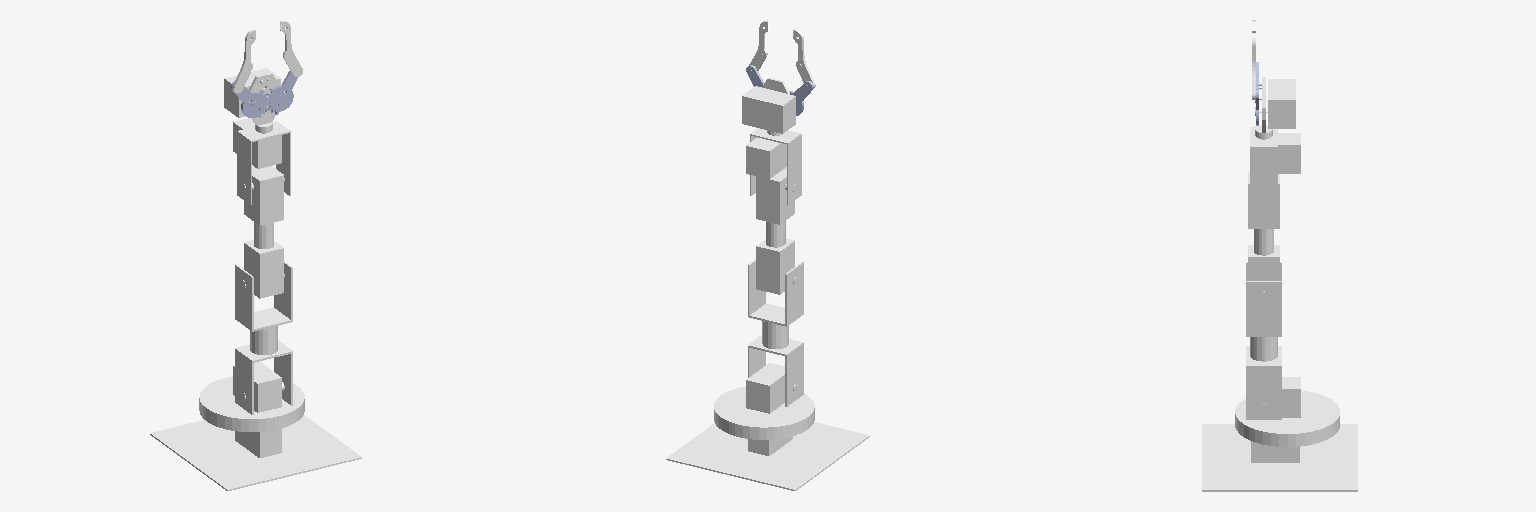
URDF robot description (xarm_new):
<?xml version="1.0" encoding="utf-8"?>
<!-- This URDF was automatically created by SolidWorks to URDF Exporter! Originally created by [author] ([email redacted]) 
     Commit Version: 1.5.1-0-g916b5db  Build Version: 1.5.7152.31018
     For more information, please see http://wiki.ros.org/sw_urdf_exporter -->
<robot
  name="xarm_new">
  <link
    name="base_link">
    <inertial>
      <origin
        xyz="2.56571213682472E-06 -0.00898617590437677 0.00787331270823633"
        rpy="0 0 0" />
      <mass
        value="0.0572940346225848" />
      <inertia
        ixx="5.76371488808841E-05"
        ixy="-2.91967857828589E-10"
        ixz="1.04712696810588E-09"
        iyy="5.41093307835269E-05"
        iyz="7.36555407278734E-07"
        izz="0.000101963856036541" />
    </inertial>
    <visual>
      <origin
        xyz="0 0 0"
        rpy="0 0 0" />
      <geometry>
        <mesh
          filename="package://xarm_new/meshes/base_link.STL" />
      </geometry>
      <material
        name="">
        <color
          rgba="1 1 1 1" />
      </material>
    </visual>
    <collision>
      <origin
        xyz="0 0 0"
        rpy="0 0 0" />
      <geometry>
        <mesh
          filename="package://xarm_new/meshes/base_link.STL" />
      </geometry>
    </collision>
  </link>
  <link
    name="link_1">
    <inertial>
      <origin
        xyz="6.24500451351651E-17 -0.00271395581985957 0.0121376391185315"
        rpy="0 0 0" />
      <mass
        value="0.125894050792552" />
      <inertia
        ixx="7.4611632006739E-05"
        ixy="3.43289062159279E-23"
        ixz="-6.64269776011072E-21"
        iyy="6.85078336247671E-05"
        iyz="5.26192854799441E-06"
        izz="0.000114012935557025" />
    </inertial>
    <visual>
      <origin
        xyz="0 0 0"
        rpy="0 0 0" />
      <geometry>
        <mesh
          filename="package://xarm_new/meshes/link_1.STL" />
      </geometry>
      <material
        name="">
        <color
          rgba="1 1 1 1" />
      </material>
    </visual>
    <collision>
      <origin
        xyz="0 0 0"
        rpy="0 0 0" />
      <geometry>
        <mesh
          filename="package://xarm_new/meshes/link_1.STL" />
      </geometry>
    </collision>
  </link>
  <joint
    name="joint_1"
    type="continuous">
    <origin
      xyz="0 0 0.0335"
      rpy="0 0 0" />
    <parent
      link="base_link" />
    <child
      link="link_1" />
    <axis
      xyz="0 0 1" />
  </joint>
  <link
    name="link_2">
    <inertial>
      <origin
        xyz="-0.0554999999999998 1.94289029309402E-16 -0.0218000000000002"
        rpy="0 0 0" />
      <mass
        value="0.0331006726764936" />
      <inertia
        ixx="9.07529641157238E-06"
        ixy="5.1332252732847E-21"
        ixz="-6.9450335888762E-21"
        iyy="3.65815762789294E-05"
        iyz="-2.32242941688522E-21"
        izz="3.18217460529601E-05" />
    </inertial>
    <visual>
      <origin
        xyz="0 0 0"
        rpy="0 0 0" />
      <geometry>
        <mesh
          filename="package://xarm_new/meshes/link_2.STL" />
      </geometry>
      <material
        name="">
        <color
          rgba="1 1 1 1" />
      </material>
    </visual>
    <collision>
      <origin
        xyz="0 0 0"
        rpy="0 0 0" />
      <geometry>
        <mesh
          filename="package://xarm_new/meshes/link_2.STL" />
      </geometry>
    </collision>
  </link>
  <joint
    name="joint_2"
    type="continuous">
    <origin
      xyz="-0.0218000000000002 -0.0214899999999999 0.0278465366697234"
      rpy="3.14159265358979 1.5707963267949 0" />
    <parent
      link="link_1" />
    <child
      link="link_2" />
    <axis
      xyz="0 0 1" />
  </joint>
  <link
    name="link_3">
    <inertial>
      <origin
        xyz="-0.04783 -2.08166817117217E-16 -0.0127999999999998"
        rpy="0 0 0" />
      <mass
        value="0.0750155170933026" />
      <inertia
        ixx="8.93762441030407E-06"
        ixy="6.20385459414768E-22"
        ixz="1.6411269460701E-21"
        iyy="0.000105451459777764"
        iyz="4.39000387485689E-22"
        izz="0.000106155354680136" />
    </inertial>
    <visual>
      <origin
        xyz="0 0 0"
        rpy="0 0 0" />
      <geometry>
        <mesh
          filename="package://xarm_new/meshes/link_3.STL" />
      </geometry>
      <material
        name="">
        <color
          rgba="1 1 1 1" />
      </material>
    </visual>
    <collision>
      <origin
        xyz="0 0 0"
        rpy="0 0 0" />
      <geometry>
        <mesh
          filename="package://xarm_new/meshes/link_3.STL" />
      </geometry>
    </collision>
  </link>
  <joint
    name="joint_3"
    type="continuous">
    <origin
      xyz="-0.111 0 -0.0346000000000001"
      rpy="-3.14159265358979 0 0" />
    <parent
      link="link_2" />
    <child
      link="link_3" />
    <axis
      xyz="0 0 1" />
  </joint>
  <link
    name="link_4">
    <inertial>
      <origin
        xyz="-0.034118144187716 -0.00969792878565746 -0.0213000000000001"
        rpy="0 0 0" />
      <mass
        value="0.0395503706902083" />
      <inertia
        ixx="1.04545718507469E-05"
        ixy="-5.20431108427383E-07"
        ixz="-1.51809025256161E-22"
        iyy="9.50587650825342E-06"
        iyz="5.3337702474887E-22"
        izz="1.20784718195145E-05" />
    </inertial>
    <visual>
      <origin
        xyz="0 0 0"
        rpy="0 0 0" />
      <geometry>
        <mesh
          filename="package://xarm_new/meshes/link_4.STL" />
      </geometry>
      <material
        name="">
        <color
          rgba="1 1 1 1" />
      </material>
    </visual>
    <collision>
      <origin
        xyz="0 0 0"
        rpy="0 0 0" />
      <geometry>
        <mesh
          filename="package://xarm_new/meshes/link_4.STL" />
      </geometry>
    </collision>
  </link>
  <joint
    name="joint_4"
    type="continuous">
    <origin
      xyz="-0.09566 0 -0.0341"
      rpy="3.14159265358979 0 0" />
    <parent
      link="link_3" />
    <child
      link="link_4" />
    <axis
      xyz="0 0 1" />
  </joint>
  <link
    name="gripper">
    <inertial>
      <origin
        xyz="0.0139946828525941 0.00192742957865329 0.02917550381288"
        rpy="0 0 0" />
      <mass
        value="0.0385295735238804" />
      <inertia
        ixx="9.69163246584673E-06"
        ixy="-1.73931159406224E-07"
        ixz="-4.42162259545074E-07"
        iyy="6.90509384330086E-06"
        iyz="-6.12295930459394E-08"
        izz="8.94113928034664E-06" />
    </inertial>
    <visual>
      <origin
        xyz="0 0 0"
        rpy="0 0 0" />
      <geometry>
        <mesh
          filename="package://xarm_new/meshes/gripper.STL" />
      </geometry>
      <material
        name="">
        <color
          rgba="1 1 1 1" />
      </material>
    </visual>
    <collision>
      <origin
        xyz="0 0 0"
        rpy="0 0 0" />
      <geometry>
        <mesh
          filename="package://xarm_new/meshes/gripper.STL" />
      </geometry>
    </collision>
  </link>
  <joint
    name="gripper"
    type="continuous">
    <origin
      xyz="-0.0533 0 -0.0213"
      rpy="1.5707963267949 0 -1.5707963267949" />
    <parent
      link="link_4" />
    <child
      link="gripper" />
    <axis
      xyz="0 0 -1" />
  </joint>
  <link
    name="gripper_r1">
    <inertial>
      <origin
        xyz="0.00599709527117787 0.000277976211210507 -0.00200000000000016"
        rpy="0 0 0" />
      <mass
        value="0.00229207293973417" />
      <inertia
        ixx="8.00953403183806E-08"
        ixy="1.97324227951185E-08"
        ixz="-5.97054675517946E-24"
        iyy="3.44895629651293E-07"
        iyz="-2.07940111506613E-24"
        izz="4.21285301585741E-07" />
    </inertial>
    <visual>
      <origin
        xyz="0 0 0"
        rpy="0 0 0" />
      <geometry>
        <mesh
          filename="package://xarm_new/meshes/gripper_r1.STL" />
      </geometry>
      <material
        name="">
        <color
          rgba="0.792156862745098 0.819607843137255 0.933333333333333 1" />
      </material>
    </visual>
    <collision>
      <origin
        xyz="0 0 0"
        rpy="0 0 0" />
      <geometry>
        <mesh
          filename="package://xarm_new/meshes/gripper_r1.STL" />
      </geometry>
    </collision>
  </link>
  <joint
    name="gripper_r1"
    type="continuous">
    <origin
      xyz="-0.00800000000000001 -0.0140000000000066 0.0300000000000017"
      rpy="1.5707963267949 -1.03225494696145 -1.5707963267949" />
    <parent
      link="gripper" />
    <child
      link="gripper_r1" />
    <axis
      xyz="0 0 -1" />
  </joint>
  <link
    name="end_r">
    <inertial>
      <origin
        xyz="0.0219290452927009 -0.00330817011818113 -0.00200000000000016"
        rpy="0 0 0" />
      <mass
        value="0.00143932679187371" />
      <inertia
        ixx="3.88004981918465E-08"
        ixy="9.74509543100112E-08"
        ixz="-1.06474581777031E-23"
        iyy="4.00376051789654E-07"
        iyz="3.39920438673816E-24"
        izz="4.36951586347965E-07" />
    </inertial>
    <visual>
      <origin
        xyz="0 0 0"
        rpy="0 0 0" />
      <geometry>
        <mesh
          filename="package://xarm_new/meshes/end_r.STL" />
      </geometry>
      <material
        name="">
        <color
          rgba="1 1 1 1" />
      </material>
    </visual>
    <collision>
      <origin
        xyz="0 0 0"
        rpy="0 0 0" />
      <geometry>
        <mesh
          filename="package://xarm_new/meshes/end_r.STL" />
      </geometry>
    </collision>
  </link>
  <joint
    name="end_r"
    type="continuous">
    <origin
      xyz="0.0289823339835635 -0.00101208540439066 0.00300000000000004"
      rpy="0 0 1.02714983775265" />
    <parent
      link="gripper_r1" />
    <child
      link="end_r" />
    <axis
      xyz="0 0 1" />
    <mimic joint="gripper_r1" multiplier="1" offset="0" />
  </joint>
  <link
    name="gripper_l1">
    <inertial>
      <origin
        xyz="0.00596309600823319 -0.000695635293955915 -0.00200000000000098"
        rpy="0 0 0" />
      <mass
        value="0.00229207293973417" />
      <inertia
        ixx="7.8637626955029E-08"
        ixy="-1.11384951212612E-09"
        ixz="1.66029242583682E-23"
        iyy="3.46353343014644E-07"
        iyz="-1.73193767662909E-23"
        izz="4.21285301585741E-07" />
    </inertial>
    <visual>
      <origin
        xyz="0 0 0"
        rpy="0 0 0" />
      <geometry>
        <mesh
          filename="package://xarm_new/meshes/gripper_l1.STL" />
      </geometry>
      <material
        name="">
        <color
          rgba="0.792156862745098 0.819607843137255 0.933333333333333 1" />
      </material>
    </visual>
    <collision>
      <origin
        xyz="0 0 0"
        rpy="0 0 0" />
      <geometry>
        <mesh
          filename="package://xarm_new/meshes/gripper_l1.STL" />
      </geometry>
    </collision>
  </link>
  <joint
    name="gripper_l1"
    type="continuous">
    <origin
      xyz="-0.00799999999999931 0.0140000000000048 0.0299999999999994"
      rpy="-1.57079632679489 -0.857447110105399 1.57079632679489" />
    <parent
      link="gripper" />
    <child
      link="gripper_l1" />
    <axis
      xyz="0 0 1" />
    <mimic joint="gripper_r1" multiplier="1" offset="0" />
  </joint>
  <link
    name="end_l">
    <inertial>
      <origin
        xyz="0.0219290452927007 0.00330817011818071 -0.00200000000000097"
        rpy="0 0 0" />
      <mass
        value="0.00143932679187371" />
      <inertia
        ixx="3.88004981918466E-08"
        ixy="-9.74509543100107E-08"
        ixz="-1.70140069102779E-24"
        iyy="4.00376051789654E-07"
        iyz="-5.76581737907008E-24"
        izz="4.36951586347964E-07" />
    </inertial>
    <visual>
      <origin
        xyz="0 0 0"
        rpy="0 0 0" />
      <geometry>
        <mesh
          filename="package://xarm_new/meshes/end_l.STL" />
      </geometry>
      <material
        name="">
        <color
          rgba="1 1 1 1" />
      </material>
    </visual>
    <collision>
      <origin
        xyz="0 0 0"
        rpy="0 0 0" />
      <geometry>
        <mesh
          filename="package://xarm_new/meshes/end_l.STL" />
      </geometry>
    </collision>
  </link>
  <joint
    name="end_l"
    type="continuous">
    <origin
      xyz="0.0289823339835491 -0.00101208540438016 0.0030000000000008"
      rpy="0 0 -1.20609472258137" />
    <parent
      link="gripper_l1" />
    <child
      link="end_l" />
    <axis
      xyz="0 0 1" />
    <mimic joint="end_r" multiplier="-1" offset="0" />
  </joint>
</robot>

--- Render facts (derived) ---
3 views of the same robot in one strip: view 1: azimuth 30°, elevation 25°; view 2: azimuth 150°, elevation 25°; view 3: azimuth 270°, elevation 25° (orthographic).
Robot: xarm_new — 10 links, 9 joints (9 continuous); root link base_link; default pose: every joint at zero.
Links seen in each view (by area): view 1: base_link, link_2, link_1, link_3, link_4, gripper, gripper_r1, gripper_l1, end_l, end_r; view 2: base_link, link_1, link_2, link_3, link_4, gripper; view 3: base_link, link_2, link_1, link_4, link_3, gripper.
Boxes of the visible links, left/top/right/bottom form: base_link: left=150, top=415, right=361, bottom=490; link_2: left=235, top=261, right=292, bottom=414; link_1: left=199, top=361, right=304, bottom=431; link_3: left=244, top=166, right=284, bottom=298; link_4: left=233, top=118, right=290, bottom=204; gripper: left=224, top=68, right=280, bottom=132; gripper_r1: left=267, top=71, right=297, bottom=114; gripper_l1: left=231, top=81, right=268, bottom=117; end_l: left=232, top=29, right=255, bottom=92; end_r: left=280, top=20, right=302, bottom=76; base_link: left=666, top=422, right=869, bottom=490; link_1: left=714, top=363, right=814, bottom=439; link_2: left=748, top=259, right=803, bottom=406; link_3: left=756, top=168, right=794, bottom=294; link_4: left=746, top=128, right=801, bottom=204; gripper: left=742, top=78, right=795, bottom=135; base_link: left=1202, top=424, right=1357, bottom=491; link_2: left=1246, top=262, right=1281, bottom=419; link_1: left=1235, top=377, right=1339, bottom=446; link_4: left=1250, top=127, right=1300, bottom=210; link_3: left=1248, top=172, right=1279, bottom=280; gripper: left=1255, top=77, right=1295, bottom=138.
Bounding box of the posed robot: 0.14 × 0.14 × 0.4293 m (x, y, z).
10 mesh visuals loaded from 10 distinct referenced files (10 binary STL).